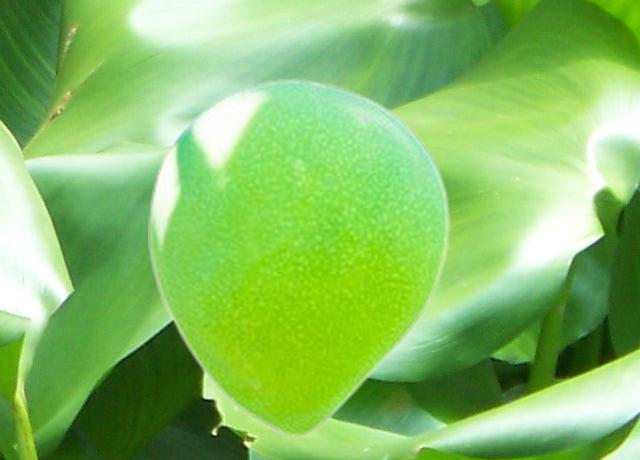green_mango: (148, 77, 449, 438)
